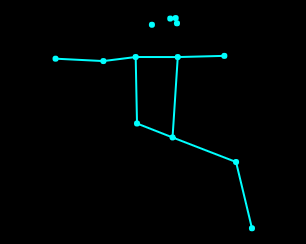warrior_2: (44, 13, 262, 235)
